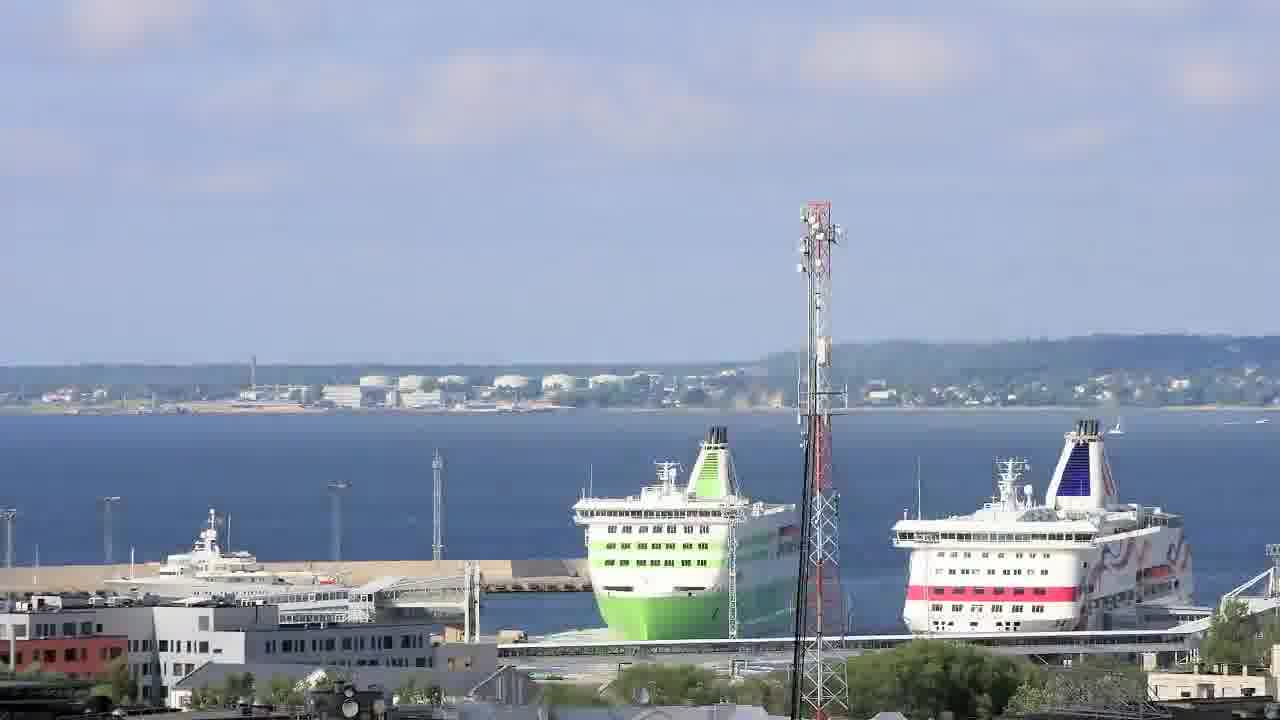type-2: (1100, 410, 1137, 452)
type-3: (868, 415, 1225, 638), (563, 429, 797, 670), (84, 511, 353, 609)
